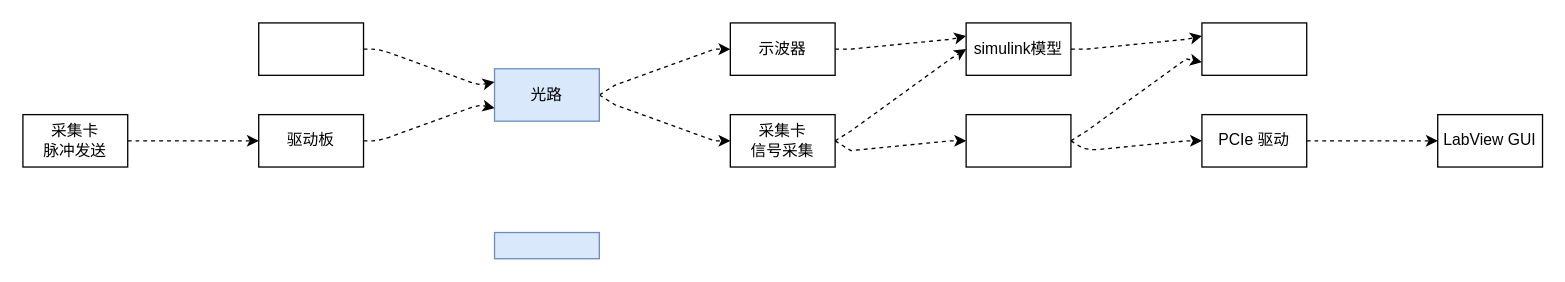
The diagram is 1565 pixels wide and 282 high, and some of its shapes have lost their labels. The box of each missing label's shape, as (x1, y1, x2, y2) in pixels:
AWG: (257, 22, 364, 75)
Matlab plot: (1201, 22, 1307, 75)
信号处理逻辑: (965, 113, 1071, 167)
验证完毕: (493, 231, 599, 259)
